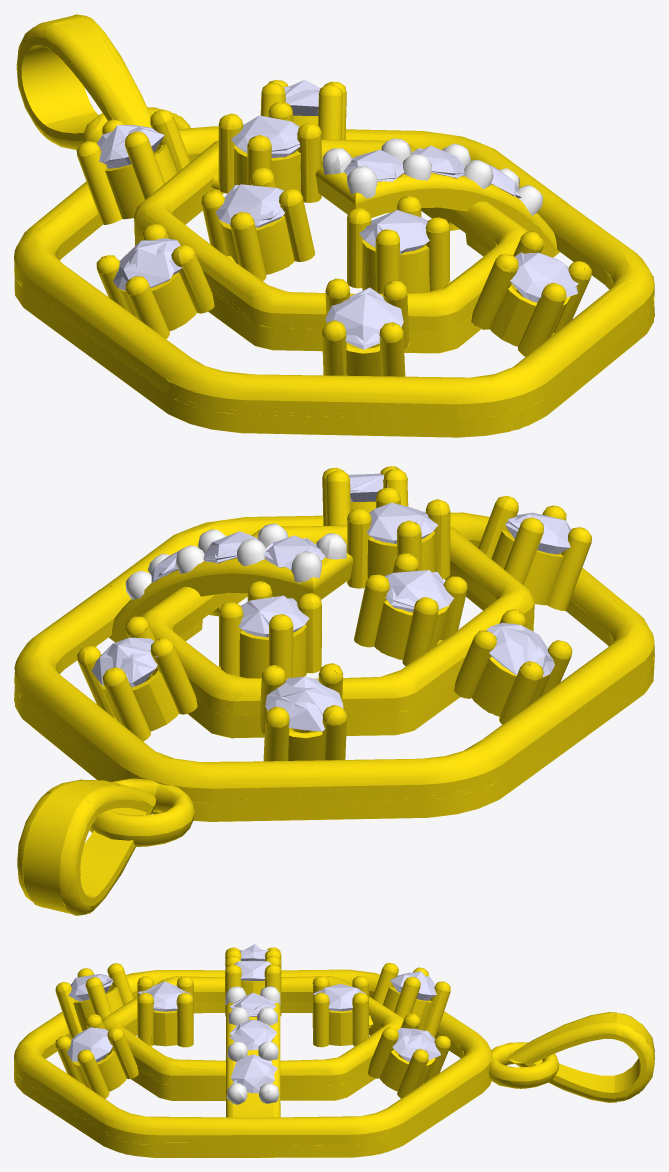
Rendered from DPN-D000589032.glb.
3 views of the same model, one above another, from view 1: azimuth 30°, elevation 25°; view 2: azimuth 150°, elevation 25°; view 3: azimuth 270°, elevation 25° (orthographic). The views are drawn at different scales.
Parts seen in each view (by area): view 1: highPolyMesh, lowPolyMesh; view 2: highPolyMesh, lowPolyMesh; view 3: highPolyMesh, lowPolyMesh.
Boxes of the visible parts, x1,y1,x2,y2 form: highPolyMesh: [14, 14, 654, 437]; lowPolyMesh: [14, 14, 654, 437]; highPolyMesh: [14, 466, 654, 915]; lowPolyMesh: [14, 466, 654, 915]; highPolyMesh: [14, 947, 654, 1157]; lowPolyMesh: [14, 944, 654, 1157].
Size of the model in its own units: 0.0135 by 0.00456 by 0.023.
